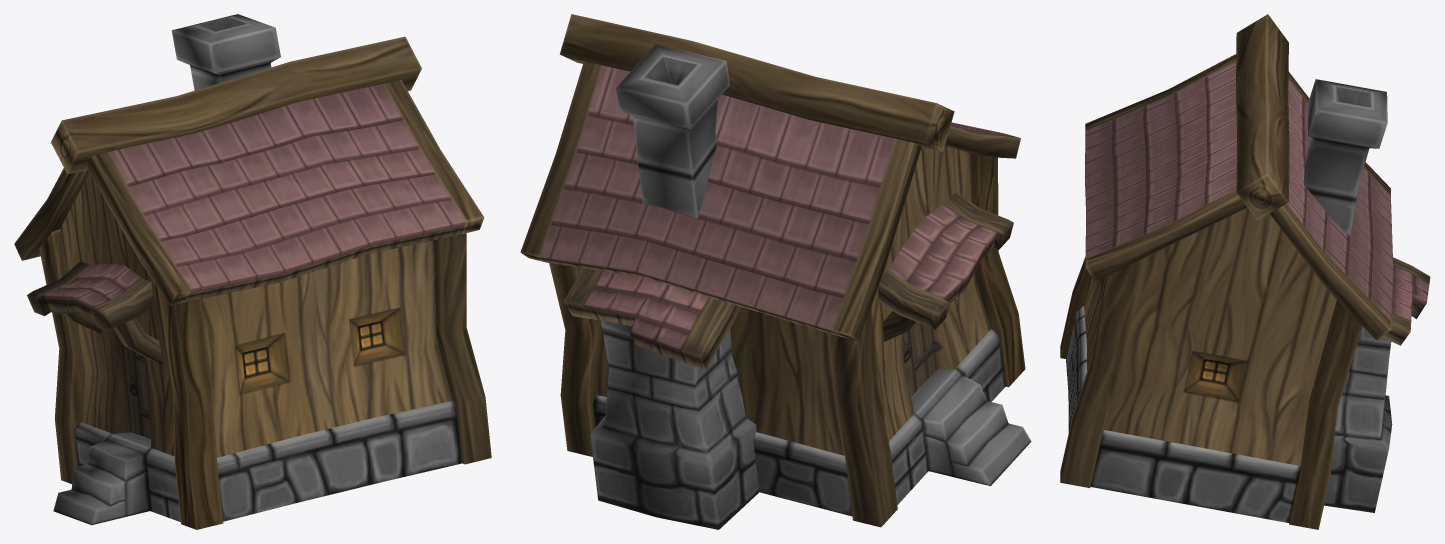
File: house@idle.fbx
3 renders of one model, left to right at view 1: azimuth 30°, elevation 25°; view 2: azimuth 150°, elevation 25°; view 3: azimuth 270°, elevation 25°, orthographic. The views are drawn at different scales.
Parts seen in each view (by area): view 1: Mesh; view 2: Mesh; view 3: Mesh.
Part boxes in pixels (<box>): Mesh: <box>14,14,491,529</box>; Mesh: <box>520,14,1031,529</box>; Mesh: <box>1060,14,1430,529</box>.
Bounding box in the file's own units: 4.34 × 4.59 × 3.91.
